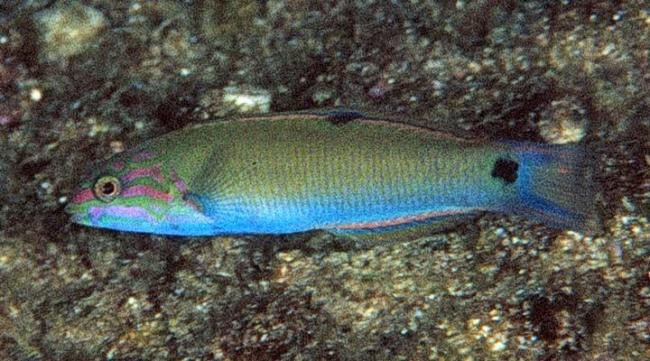fish: (65, 104, 592, 242)
